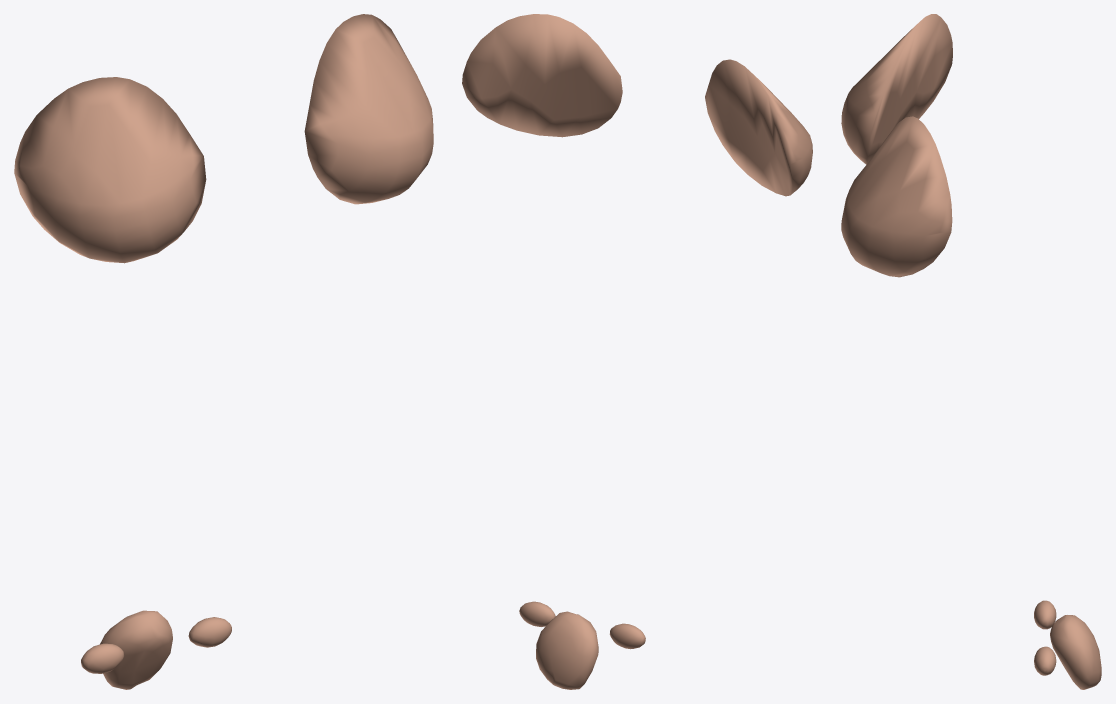
File: pediatric_adolescent_female.reproductive.LOD1.glb
The picture shows the model from 3 angles, left to right: view 1: azimuth 30°, elevation 25°; view 2: azimuth 150°, elevation 25°; view 3: azimuth 270°, elevation 25°; orthographic projection. The views are drawn at different scales.
Parts seen in each view (by area): view 1: PEDIATRIC.ADOLESCENT.FEMALE.REPRODUCTIVE.BREAST_ADIPOSE_TISS (×2), PEDIATRIC.ADOLESCENT.FEMALE.REPRODUCTIVE.UTERUS, PEDIATRIC.ADOLESCENT.FEMALE.REPRODUCTIVE.OVARY.L, PEDIATRIC.ADOLESCENT.FEMALE.REPRODUCTIVE.OVARY.R; view 2: PEDIATRIC.ADOLESCENT.FEMALE.REPRODUCTIVE.BREAST_ADIPOSE_TISS (×2), PEDIATRIC.ADOLESCENT.FEMALE.REPRODUCTIVE.UTERUS, PEDIATRIC.ADOLESCENT.FEMALE.REPRODUCTIVE.OVARY.R, PEDIATRIC.ADOLESCENT.FEMALE.REPRODUCTIVE.OVARY.L; view 3: PEDIATRIC.ADOLESCENT.FEMALE.REPRODUCTIVE.BREAST_ADIPOSE_TISS (×2), PEDIATRIC.ADOLESCENT.FEMALE.REPRODUCTIVE.UTERUS, PEDIATRIC.ADOLESCENT.FEMALE.REPRODUCTIVE.OVARY.L, PEDIATRIC.ADOLESCENT.FEMALE.REPRODUCTIVE.OVARY.R.
Boxes of the visible parts, x1,y1,x2,y2 form: PEDIATRIC.ADOLESCENT.FEMALE.REPRODUCTIVE.BREAST_ADIPOSE_TISS (×2): [14, 14, 433, 263]; PEDIATRIC.ADOLESCENT.FEMALE.REPRODUCTIVE.UTERUS: [100, 610, 172, 689]; PEDIATRIC.ADOLESCENT.FEMALE.REPRODUCTIVE.OVARY.L: [188, 617, 231, 647]; PEDIATRIC.ADOLESCENT.FEMALE.REPRODUCTIVE.OVARY.R: [81, 643, 124, 673]; PEDIATRIC.ADOLESCENT.FEMALE.REPRODUCTIVE.BREAST_ADIPOSE_TISS (×2): [462, 14, 812, 196]; PEDIATRIC.ADOLESCENT.FEMALE.REPRODUCTIVE.UTERUS: [536, 611, 598, 689]; PEDIATRIC.ADOLESCENT.FEMALE.REPRODUCTIVE.OVARY.R: [609, 623, 645, 649]; PEDIATRIC.ADOLESCENT.FEMALE.REPRODUCTIVE.OVARY.L: [519, 601, 555, 626]; PEDIATRIC.ADOLESCENT.FEMALE.REPRODUCTIVE.BREAST_ADIPOSE_TISS (×2): [841, 14, 952, 277]; PEDIATRIC.ADOLESCENT.FEMALE.REPRODUCTIVE.UTERUS: [1050, 615, 1101, 689]; PEDIATRIC.ADOLESCENT.FEMALE.REPRODUCTIVE.OVARY.L: [1034, 646, 1056, 675]; PEDIATRIC.ADOLESCENT.FEMALE.REPRODUCTIVE.OVARY.R: [1034, 600, 1056, 629].
Size of the model in its own units: 0.2497 by 0.4284 by 0.1634.
